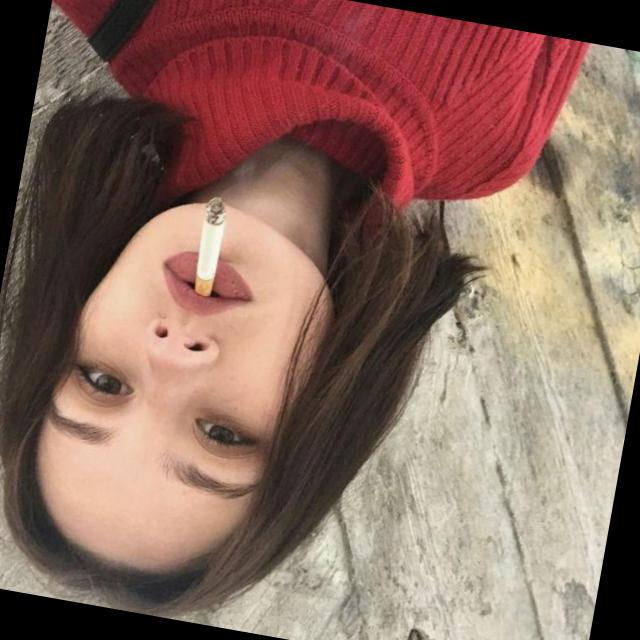cigarette: (166, 163, 262, 312)
